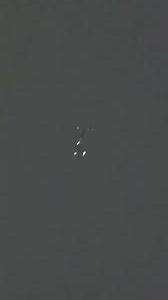Plane: (65, 132, 94, 165)
